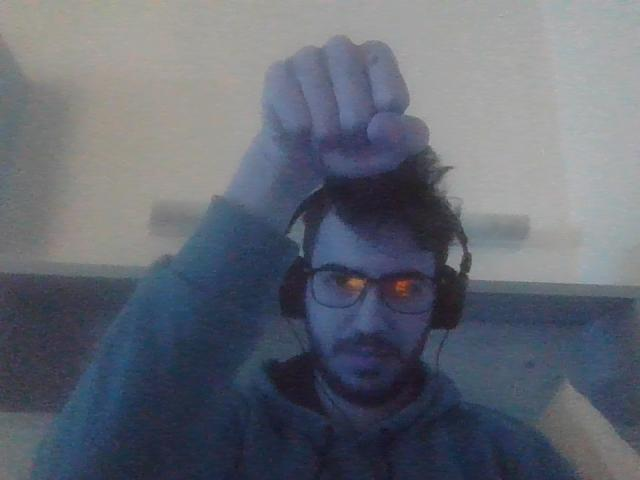yes: (260, 33, 431, 171)
